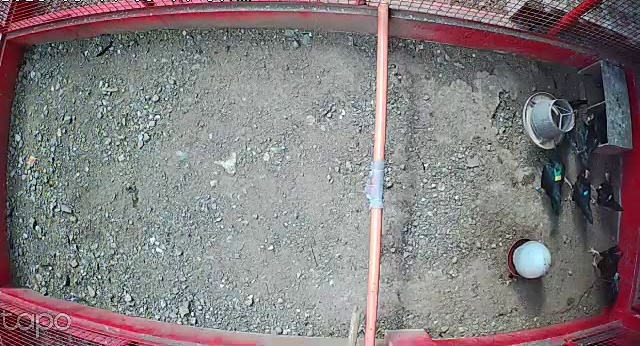Chicken: (531, 143, 568, 217), (583, 167, 631, 213), (562, 166, 596, 225)
Rooster: (586, 238, 627, 303)
Saddle_Color_Blue: (583, 189, 588, 195)
Saddle_Color_YellowGreen: (553, 167, 562, 182)
